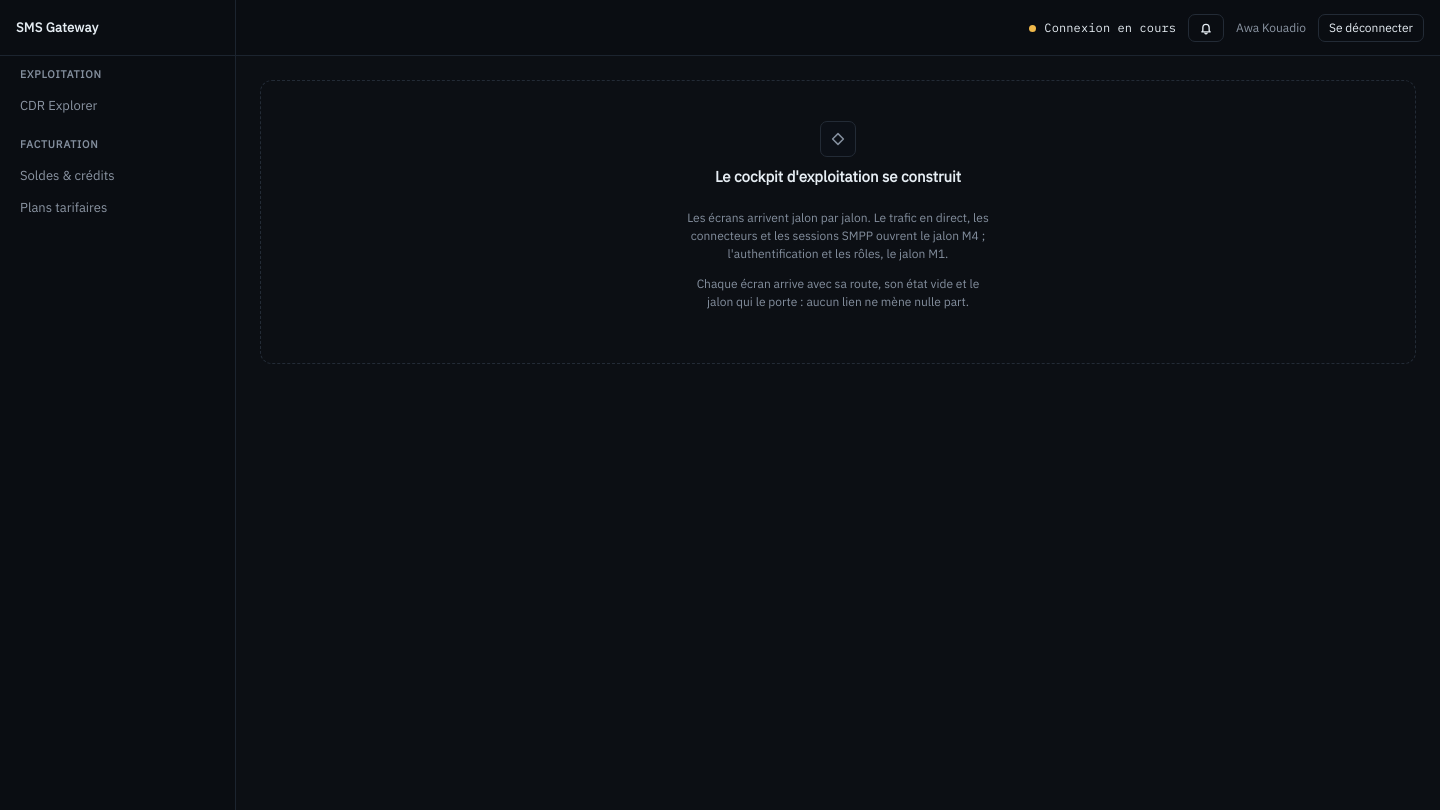
it: the notification center trigger › claims no count while the list cannot be read
Click the button named "Notifications" at (1206, 28), box left=1188, top=14, right=1224, bottom=42
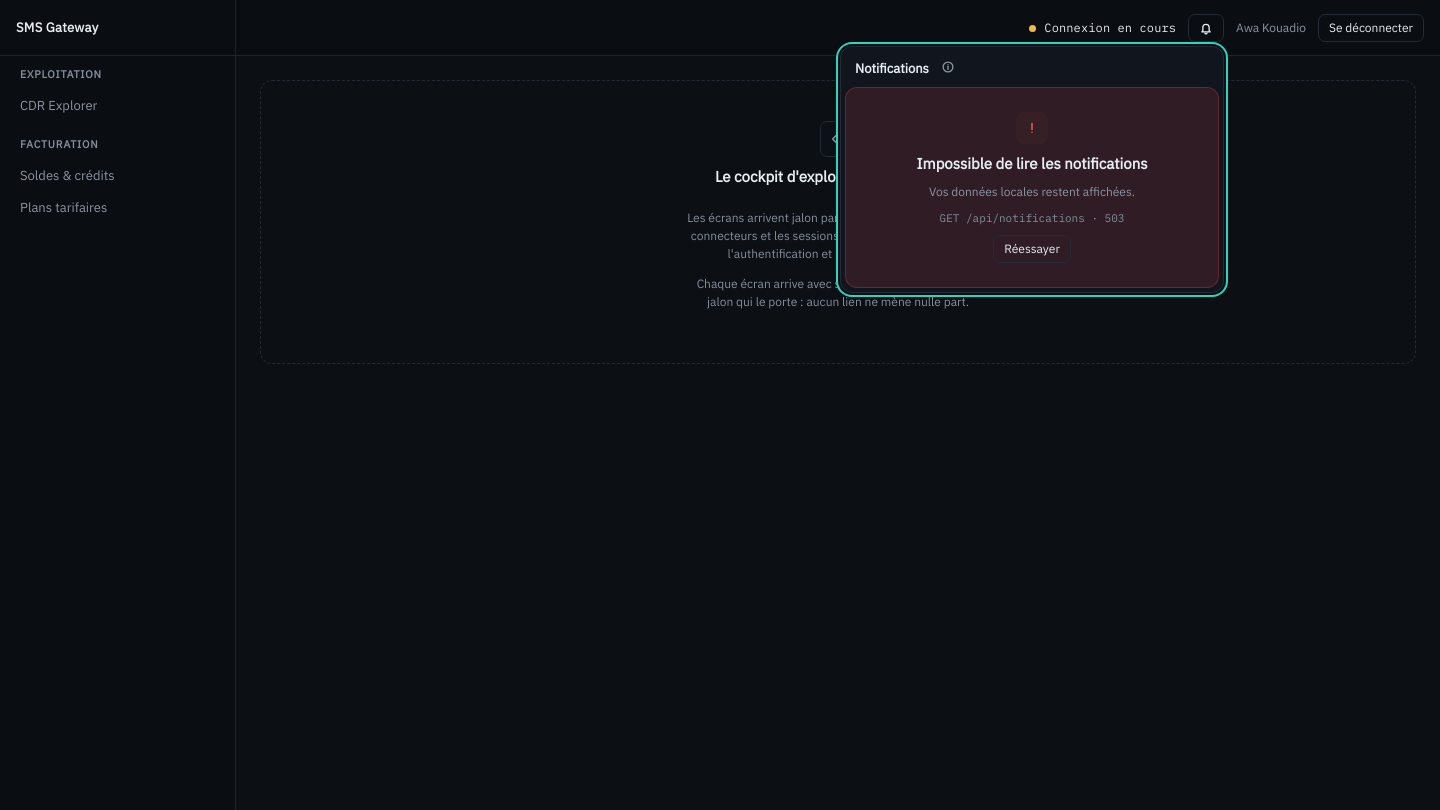
expect the message that starts with "Impossible de lire les notifications" is shown: met, box left=845, top=86, right=1219, bottom=288
